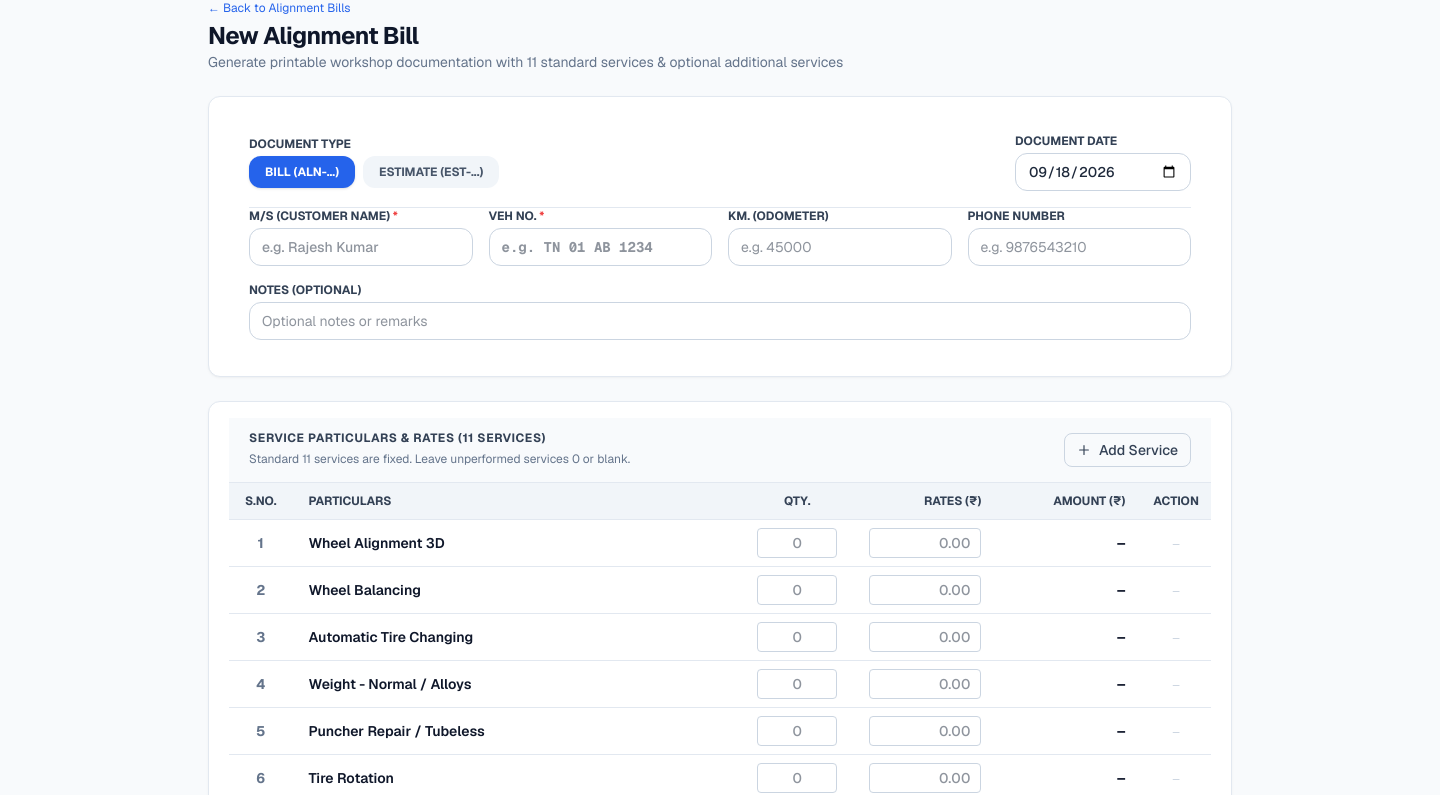
NewAlignmentBillPage UI Component UX Tests › defaults newly added additional service rows to empty quantity (0)
This screenshot has width=1440, height=795.
Click the button "Add Service" at [1128, 450], box [1064,433,1191,467]
(page scrolled)
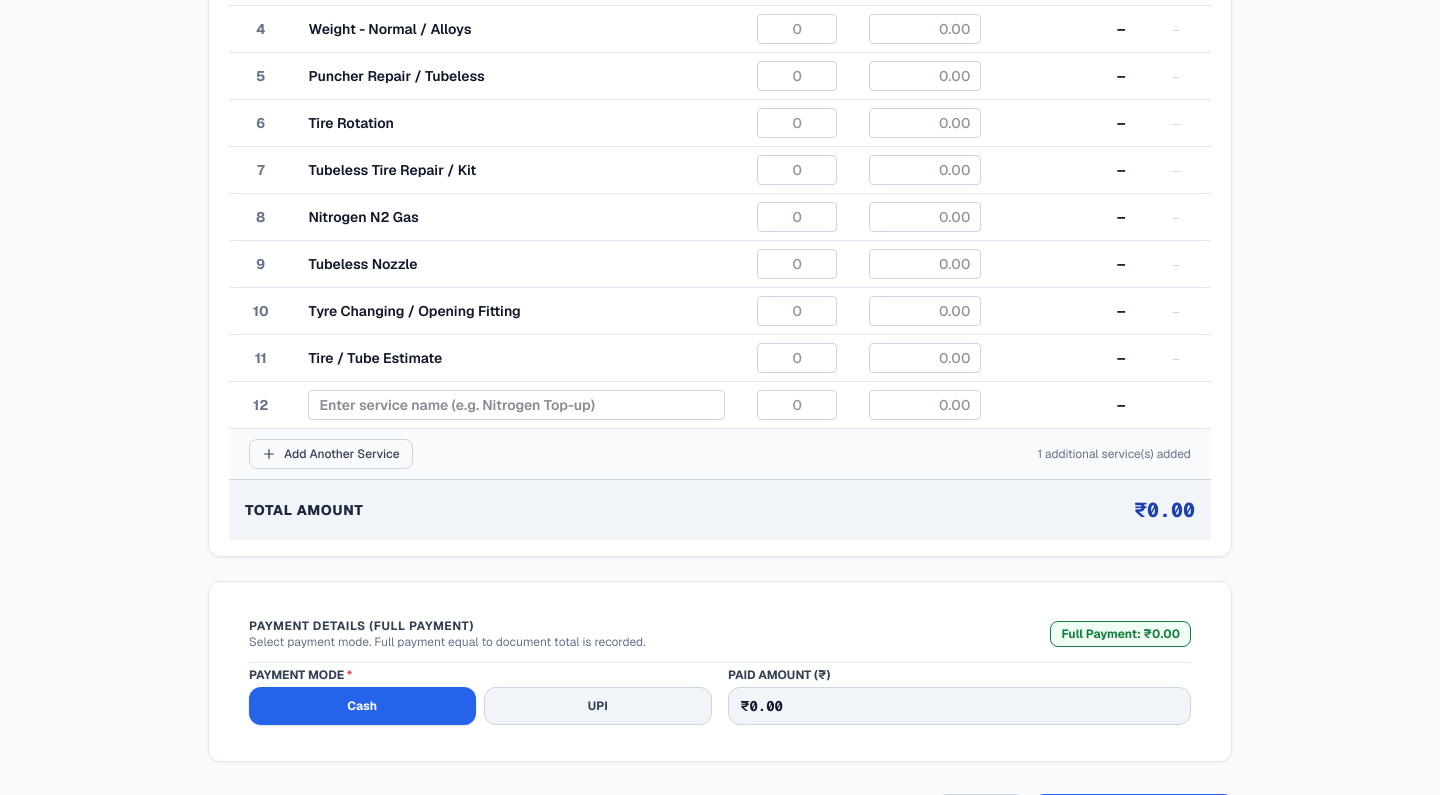
Expected: the field with placeholder "Enter service name (e.g. Nitrogen Top-up)" is shown, [308,390,725,420]
Expected: the number of fields with placeholder "0" is 12
Expected: the 9th field with placeholder "0" is empty, [757,390,837,420]
